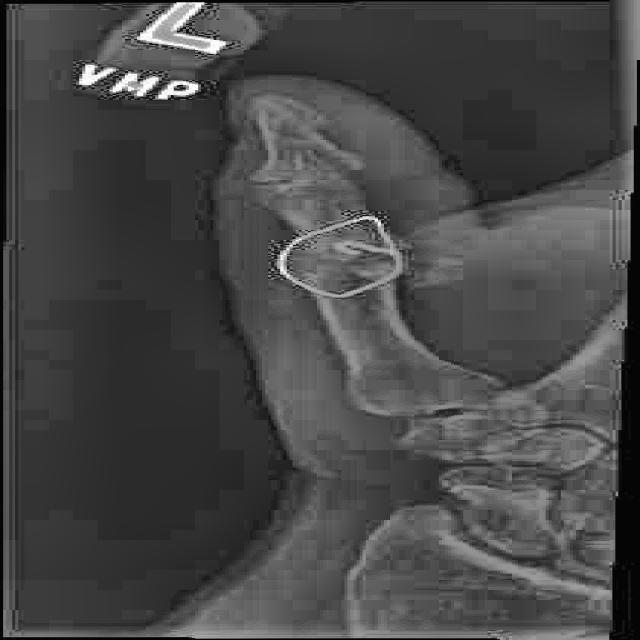fingers positive: (278, 229, 465, 321), (217, 84, 366, 147)
